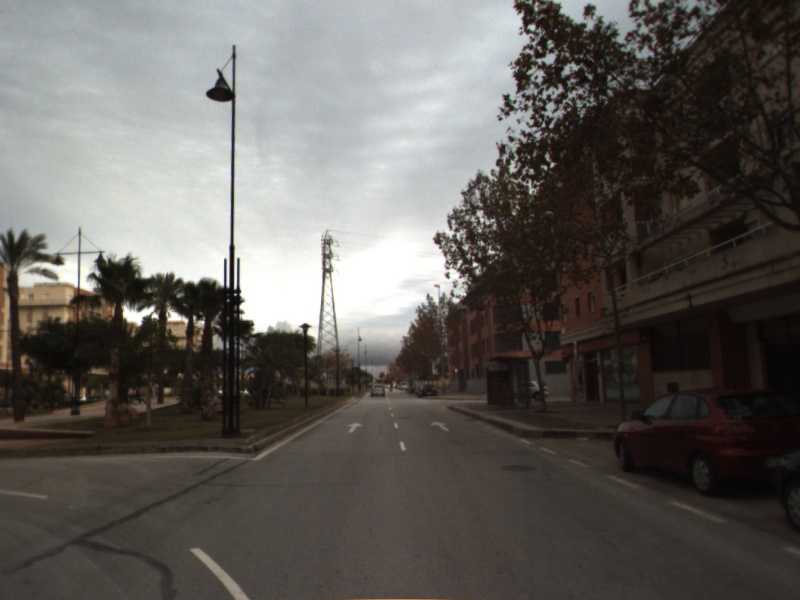STRAIGHT: (429, 419, 452, 433), (345, 420, 366, 435)
